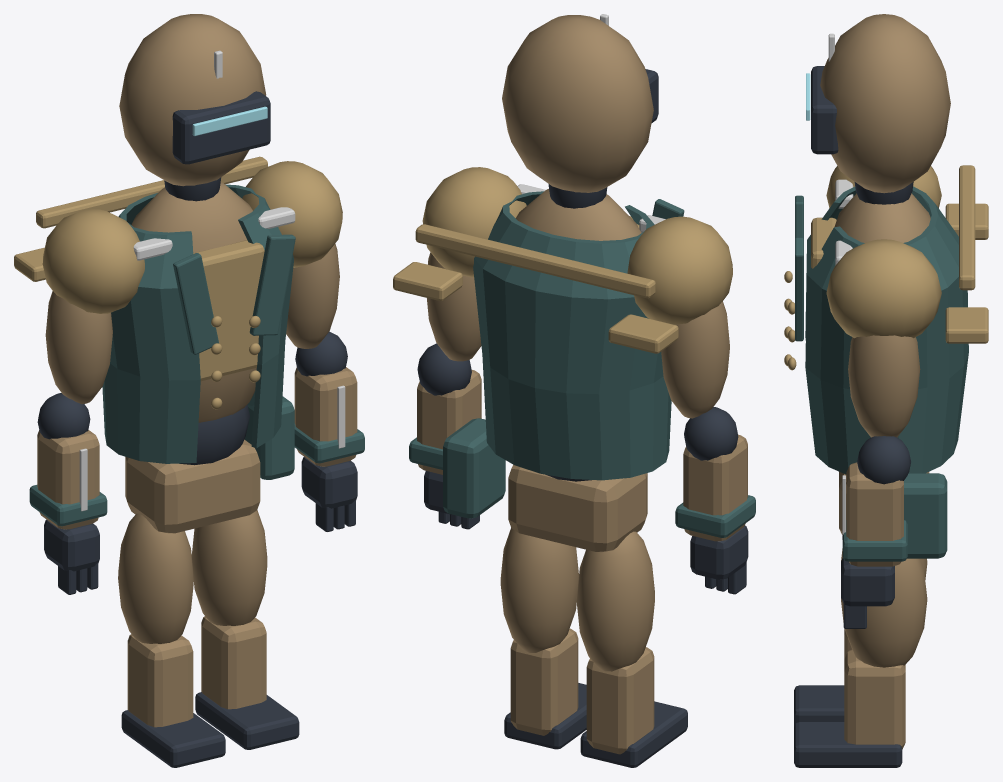
The model's file is financier.glb.
The picture shows the model from 3 angles, left to right: view 1: azimuth 30°, elevation 25°; view 2: azimuth 150°, elevation 25°; view 3: azimuth 270°, elevation 25°; orthographic projection. The views are drawn at different scales.
Visible parts, largest first — view 1: Treasurer double breast, Helmet, Pelvis, Shoulder R, Thigh R, Thigh L, Articulated thorax, Sternum shield, Shoulder L, Upper arm R, Shin R, Shin L (+22 smaller); view 2: Treasurer double breast, Helmet, Pelvis, Thigh R, Shoulder R, Thigh L, Shoulder L, Shin R, Shin L, Upper arm R, Balance yoke, Treasurer ledger case (+15 smaller); view 3: Treasurer double breast, Helmet, Shoulder L, Upper arm L, Thigh L, Shin L, Bracer L, Foot L, Treasurer ledger case, Articulated thorax, Hand L, Elbow L (+12 smaller).
Boxes of the visible parts, bbox=[...] form: Treasurer double breast: bbox=[102, 184, 293, 463]; Helmet: bbox=[119, 14, 266, 186]; Pelvis: bbox=[125, 439, 260, 533]; Shoulder R: bbox=[42, 209, 144, 313]; Thigh R: bbox=[118, 513, 193, 643]; Thigh L: bbox=[191, 510, 267, 625]; Articulated thorax: bbox=[131, 182, 256, 422]; Sternum shield: bbox=[193, 240, 264, 381]; Shoulder L: bbox=[242, 161, 342, 267]; Upper arm R: bbox=[45, 291, 112, 404]; Shin R: bbox=[127, 634, 193, 727]; Shin L: bbox=[201, 616, 266, 709]; Treasurer double breast: bbox=[473, 191, 671, 480]; Helmet: bbox=[502, 15, 653, 192]; Pelvis: bbox=[508, 465, 647, 552]; Thigh R: bbox=[576, 531, 654, 671]; Shoulder R: bbox=[627, 216, 732, 324]; Thigh L: bbox=[500, 528, 578, 652]; Shoulder L: bbox=[422, 167, 526, 277]; Shin R: bbox=[586, 647, 654, 754]; Shin L: bbox=[510, 628, 578, 735]; Upper arm R: bbox=[661, 301, 729, 418]; Balance yoke: bbox=[415, 224, 655, 298]; Treasurer ledger case: bbox=[443, 418, 505, 518]; Treasurer double breast: bbox=[805, 186, 968, 474]; Helmet: bbox=[820, 14, 950, 193]; Shoulder L: bbox=[826, 239, 941, 338]; Upper arm L: bbox=[848, 335, 920, 437]; Thigh L: bbox=[841, 558, 927, 667]; Shin L: bbox=[844, 649, 905, 749]; Bracer L: bbox=[846, 462, 903, 566]; Foot L: bbox=[794, 722, 902, 767]; Treasurer ledger case: bbox=[904, 473, 947, 558]; Articulated thorax: bbox=[834, 193, 930, 242]; Hand L: bbox=[841, 558, 894, 606]; Elbow L: bbox=[857, 436, 910, 484].
Bounding box in the file's own units: 1 × 2.2 × 0.567.
